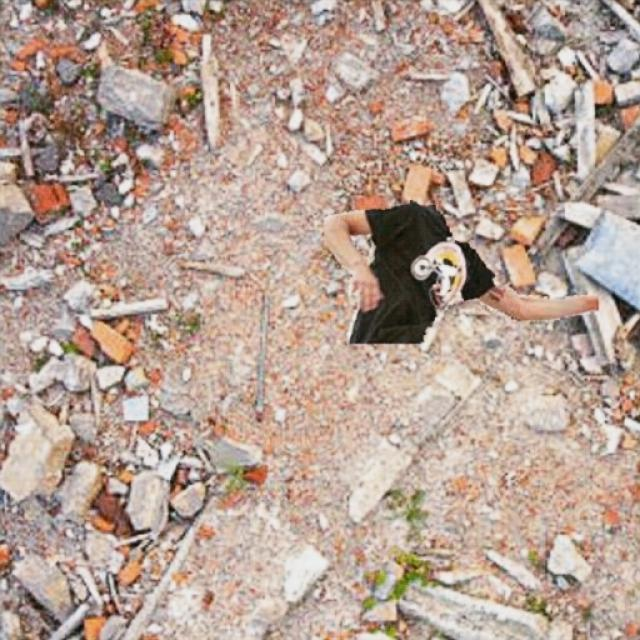Person in Rubble: (323, 200, 598, 342)
